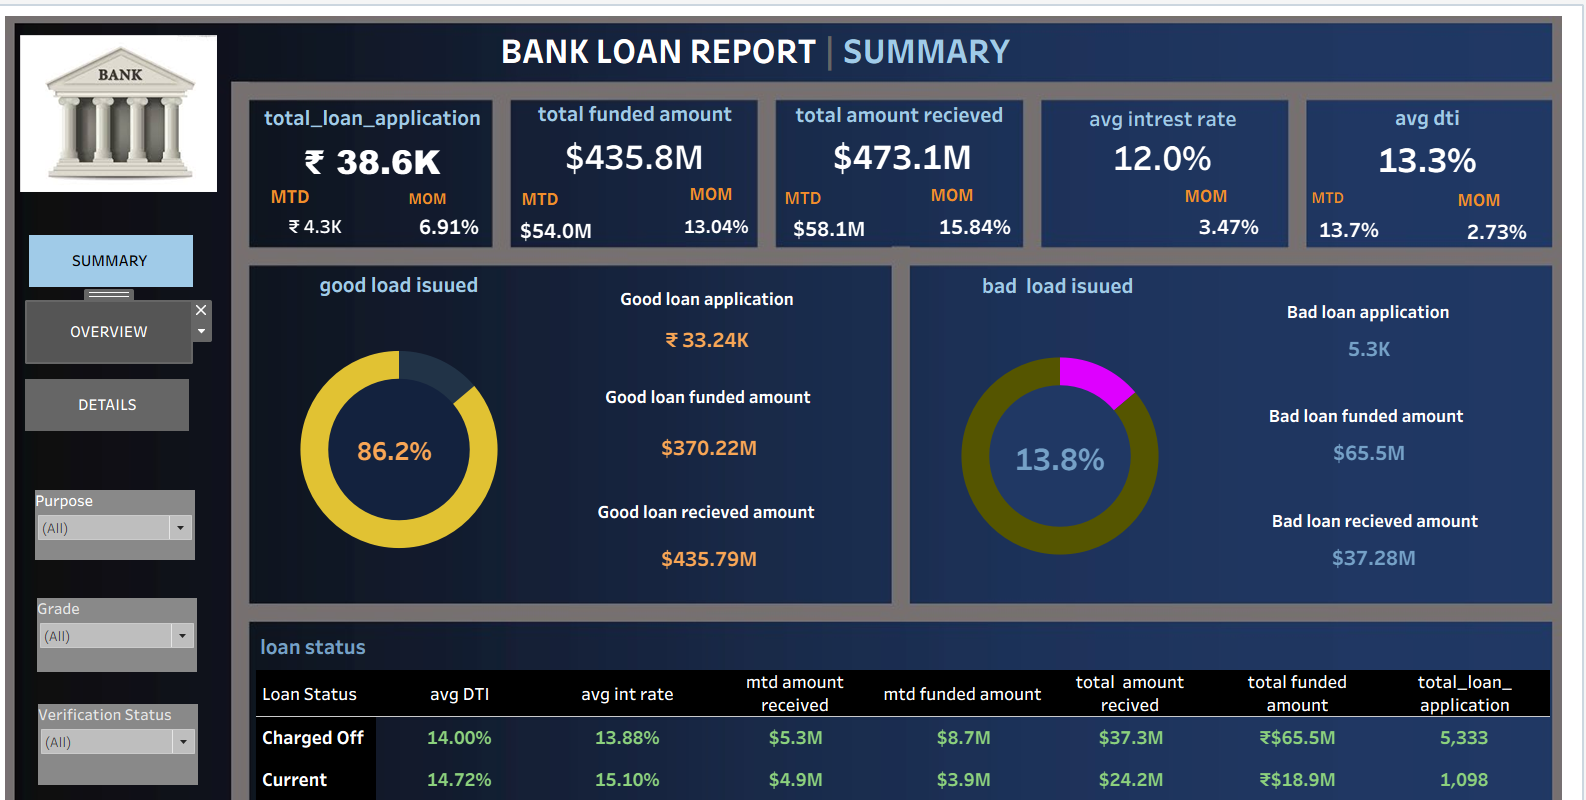

Layout of this report page (visuals, bound fields, positions):
{"tool":"tableau","page":{"name":"SUMMARY","canvas":[1600,900],"ordinal":2},"visuals":[{"type":"image","param":"C:/Users/HP/Downloads/Tableau Background 1.jpg","box":[8,8,1584,884]},{"type":"text","box":[513,23,517,45]},{"type":"image","param":"C:/Users/HP/AppData/Local/Temp/TableauTemp/1usxecd0y1ci5519p6f4o0lbw4ct/Sheets1/","box":[36,24,197,171]},{"type":"worksheet","title":"total funded amount","mark":"Automatic","box":[529,91,244,80]},{"type":"worksheet","title":"total amount recieved","mark":"Automatic","box":[792,92,247,79]},{"type":"worksheet","title":"total_loan_application","mark":"Automatic","box":[267,95,243,83]},{"type":"worksheet","title":"avg dti","mark":"Automatic","box":[1322,95,243,78]},{"type":"worksheet","title":"avg intrest rate","mark":"Automatic","box":[1054,96,250,72]},{"type":"text","box":[702,174,100,30]},{"type":"text","box":[943,175,100,30]},{"type":"text","box":[1197,176,100,30]},{"type":"text","box":[283,177,100,30]},{"type":"text","box":[797,178,100,30]},{"type":"text","box":[1324,178,100,30]},{"type":"text","box":[421,179,100,30]},{"type":"text","box":[534,179,100,30]},{"type":"text","box":[1470,180,100,30]},{"type":"worksheet","title":"MOM funded amount","mark":"Automatic","box":[696,202,73,41]},{"type":"worksheet","title":"MOM amount recieved","mark":"Automatic","box":[949,206,84,32]},{"type":"worksheet","title":"MTD loan application","mark":"Automatic","box":[288,207,86,31]},{"type":"worksheet","title":"MTD amount recieved","mark":"Automatic","box":[796,208,95,33]},{"type":"worksheet","title":"MTD avg DTI","mark":"Automatic","box":[1322,208,86,35]},{"type":"worksheet","title":"MOM loan application ","mark":"Automatic","box":[424,209,82,27]},{"type":"worksheet","title":"MOM avg int rate","mark":"Automatic","box":[1195,209,100,27]},{"type":"worksheet","title":"MOM avg dti","mark":"Automatic","box":[1466,210,94,35]},{"type":"worksheet","title":"MTD funded amount","mark":"Automatic","box":[527,212,92,28]},{"type":"dashboard-object","box":[45,231,164,52]},{"type":"worksheet","title":"good load isuued","mark":"Pie","rows":["Calculation_-[number redacted]","Calculation_-[number redacted]"],"box":[265,262,300,325]},{"type":"worksheet","title":"bad  load isuued ","mark":"Pie","rows":["Calculation_-[number redacted]","Calculation_-[number redacted]"],"box":[926,263,300,336]},{"type":"worksheet","title":"Good loan application","mark":"Automatic","box":[573,275,300,82]},{"type":"worksheet","title":"Bad loan application ","mark":"Automatic","box":[1236,288,300,75]},{"type":"dashboard-object","box":[43,298,164,60]},{"type":"worksheet","title":"Good loan funded amount","mark":"Automatic","box":[574,373,300,102]},{"type":"dashboard-object","box":[41,375,164,52]},{"type":"worksheet","title":"Bad loan funded amount ","mark":"Automatic","box":[1234,392,300,75]},{"type":"worksheet","title":"Good loan application %","mark":"Automatic","box":[359,405,104,83]},{"type":"worksheet","title":"bad loan %","mark":"Automatic","box":[1021,427,110,55]},{"type":"filter","title":"good load isuued","param":"[federated.120kebf0at2c3s12benhf1fhnnxb].[none:purpose:nk]","box":[51,486,160,70]},{"type":"worksheet","title":"Good loan recieved amount ","mark":"Automatic","box":[574,488,300,95]},{"type":"worksheet","title":"Bad loan recieved amount","mark":"Automatic","box":[1241,497,300,75]},{"type":"filter","title":"good load isuued","param":"[federated.120kebf0at2c3s12benhf1fhnnxb].[none:grade:nk]","box":[53,594,160,74]},{"type":"worksheet","title":"loan status","mark":"Automatic","rows":["loan_status"],"box":[272,624,1294,257]},{"type":"filter","title":"good load isuued","param":"[federated.120kebf0at2c3s12benhf1fhnnxb].[none:verification_status:nk]","box":[54,700,160,81]}]}

Visuals, with their boxes on the page's 1600x900 design canvas (x1, y1, x2, y2). These are canvas units, not pixel positions in the 1586x800 screenshot, which may show the page scaled, cropped or inside an application window:
image: Rect(8, 8, 1592, 892)
text: Rect(513, 23, 1030, 68)
image: Rect(36, 24, 233, 195)
"total funded amount" worksheet: Rect(529, 91, 773, 171)
"total amount recieved" worksheet: Rect(792, 92, 1039, 171)
"total_loan_application" worksheet: Rect(267, 95, 510, 178)
"avg dti" worksheet: Rect(1322, 95, 1565, 173)
"avg intrest rate" worksheet: Rect(1054, 96, 1304, 168)
text: Rect(702, 174, 802, 204)
text: Rect(943, 175, 1043, 205)
text: Rect(1197, 176, 1297, 206)
text: Rect(283, 177, 383, 207)
text: Rect(797, 178, 897, 208)
text: Rect(1324, 178, 1424, 208)
text: Rect(421, 179, 521, 209)
text: Rect(534, 179, 634, 209)
text: Rect(1470, 180, 1570, 210)
"MOM funded amount" worksheet: Rect(696, 202, 769, 243)
"MOM amount recieved" worksheet: Rect(949, 206, 1033, 238)
"MTD loan application" worksheet: Rect(288, 207, 374, 238)
"MTD amount recieved" worksheet: Rect(796, 208, 891, 241)
"MTD avg DTI" worksheet: Rect(1322, 208, 1408, 243)
"MOM loan application " worksheet: Rect(424, 209, 506, 236)
"MOM avg int rate" worksheet: Rect(1195, 209, 1295, 236)
"MOM avg dti" worksheet: Rect(1466, 210, 1560, 245)
"MTD funded amount" worksheet: Rect(527, 212, 619, 240)
dashboard-object: Rect(45, 231, 209, 283)
"good load isuued" worksheet (Pie marks): Rect(265, 262, 565, 587)
"bad  load isuued " worksheet (Pie marks): Rect(926, 263, 1226, 599)
"Good loan application" worksheet: Rect(573, 275, 873, 357)
"Bad loan application " worksheet: Rect(1236, 288, 1536, 363)
dashboard-object: Rect(43, 298, 207, 358)
"Good loan funded amount" worksheet: Rect(574, 373, 874, 475)
dashboard-object: Rect(41, 375, 205, 427)
"Bad loan funded amount " worksheet: Rect(1234, 392, 1534, 467)
"Good loan application %" worksheet: Rect(359, 405, 463, 488)
"bad loan %" worksheet: Rect(1021, 427, 1131, 482)
"good load isuued" filter: Rect(51, 486, 211, 556)
"Good loan recieved amount " worksheet: Rect(574, 488, 874, 583)
"Bad loan recieved amount" worksheet: Rect(1241, 497, 1541, 572)
"good load isuued" filter: Rect(53, 594, 213, 668)
"loan status" worksheet: Rect(272, 624, 1566, 881)
"good load isuued" filter: Rect(54, 700, 214, 781)
